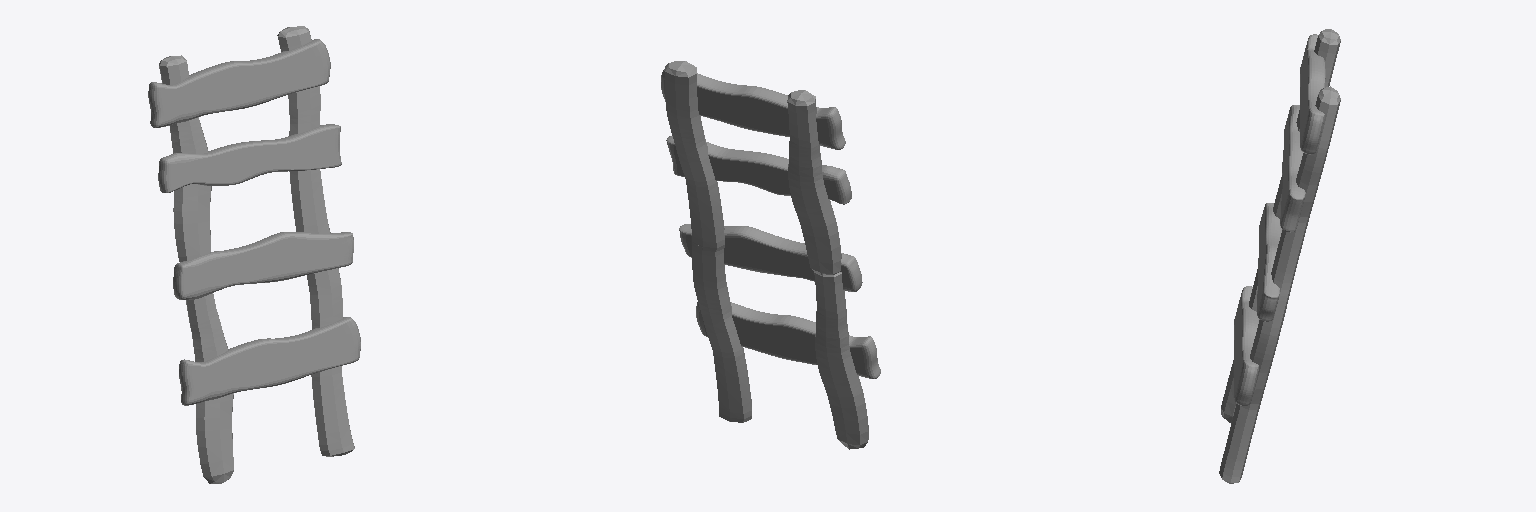
The model's file is Ladder.obj.
The picture shows the model from 3 angles: view 1: azimuth 30°, elevation 25°; view 2: azimuth 150°, elevation 25°; view 3: azimuth 270°, elevation 25°; orthographic projection.
Visible parts, largest first — view 1: Mesh.001, Mesh.002, Mesh, Mesh.003; view 2: Mesh.003, Mesh, Mesh.001, Mesh.002; view 3: Mesh.003, Mesh.002, Mesh.001, Mesh.
Part boxes in pixels (bbox=[...]): Mesh.001: bbox=[173, 232, 360, 405]; Mesh.002: bbox=[148, 39, 341, 192]; Mesh: bbox=[186, 268, 354, 483]; Mesh.003: bbox=[159, 26, 330, 261]; Mesh.003: bbox=[665, 61, 841, 274]; Mesh: bbox=[692, 243, 868, 449]; Mesh.001: bbox=[679, 224, 880, 378]; Mesh.002: bbox=[661, 69, 851, 204]; Mesh.003: bbox=[1271, 29, 1340, 295]; Mesh.002: bbox=[1280, 34, 1325, 232]; Mesh.001: bbox=[1234, 203, 1281, 405]; Mesh: bbox=[1219, 269, 1291, 483].
Size of the model in its own units: 9.32 by 18.88 by 5.33.